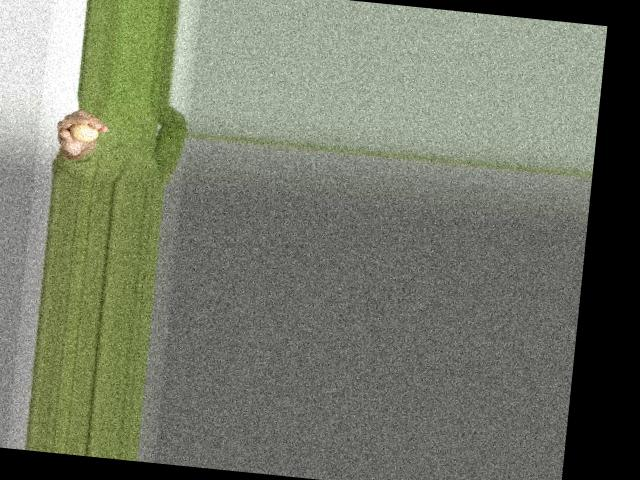egg: (69, 122, 100, 142)
